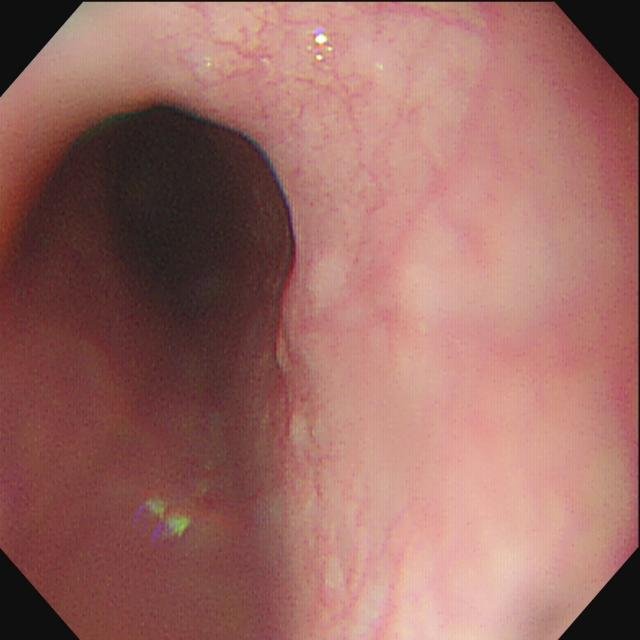E: (73, 100, 297, 349)
U: (143, 495, 190, 546), (306, 29, 334, 66)
